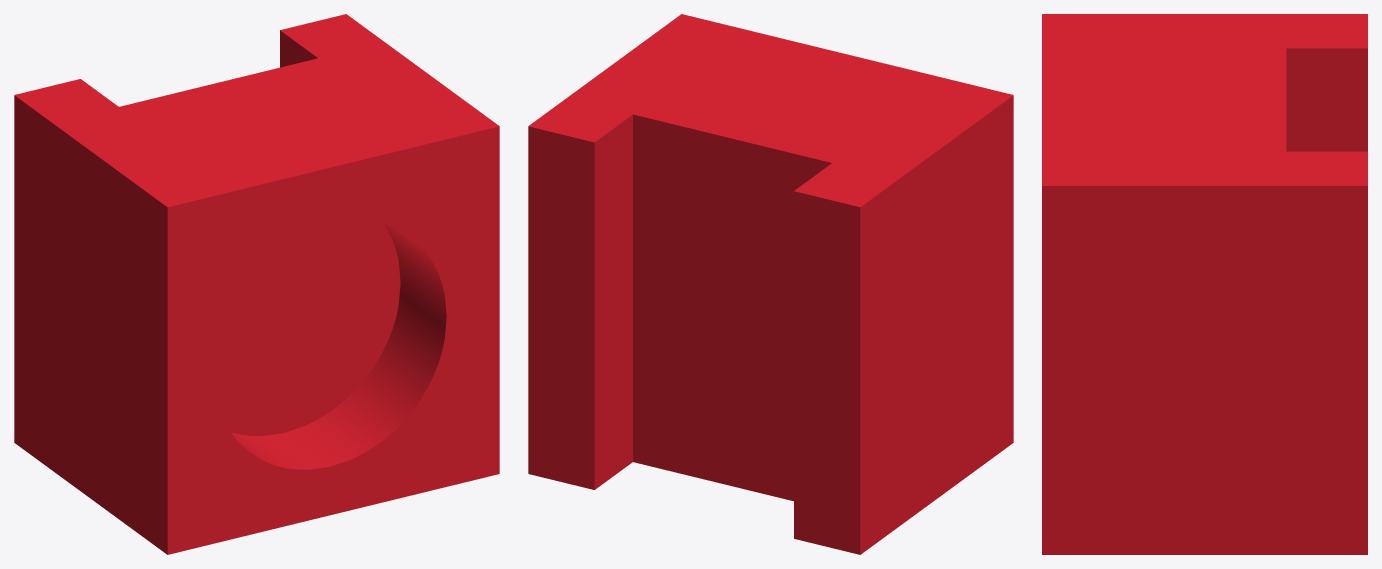
Rendered from Container.fbx.
3 renders of one model, left to right at view 1: azimuth 30°, elevation 25°; view 2: azimuth 150°, elevation 25°; view 3: azimuth 270°, elevation 25°, orthographic. The views are drawn at different scales.
Visible parts, largest first — view 1: Body1; view 2: Body1; view 3: Body1.
Boxes of the visible parts, x1,y1,x2,y2 form: Body1: [14, 14, 499, 554]; Body1: [528, 14, 1013, 554]; Body1: [1042, 14, 1367, 554].
Bounding box in the file's own units: 50 × 50 × 40.
